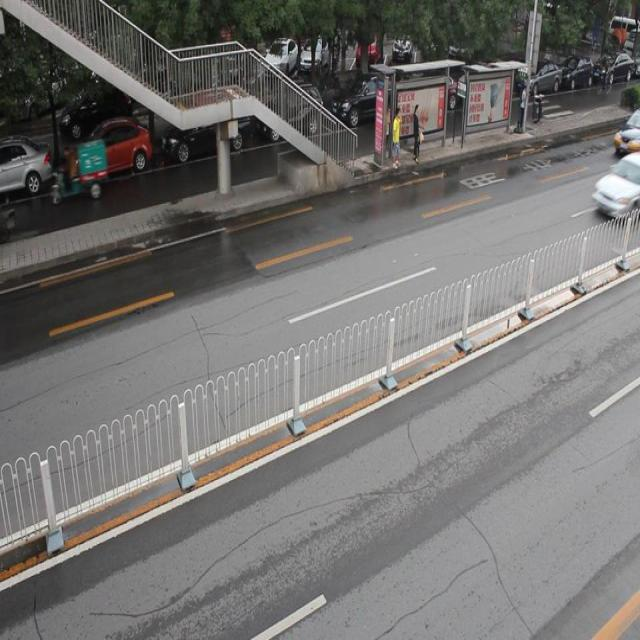car: (64, 118, 152, 185), (162, 100, 250, 163), (331, 72, 403, 129), (256, 85, 323, 143), (592, 157, 640, 220), (1, 138, 52, 196), (612, 111, 640, 156)
